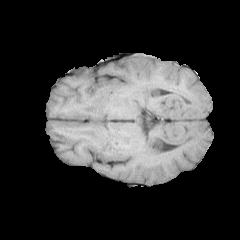glioma: (91, 81, 172, 127)
